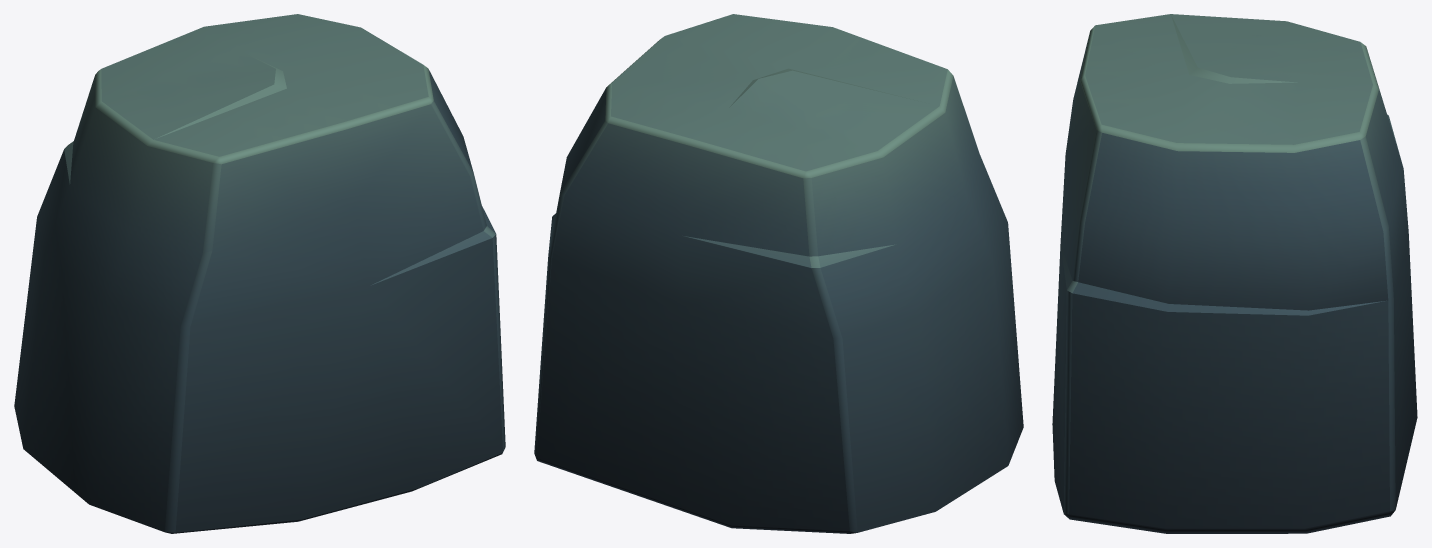
The model's file is rock_large_02.fbx.
3 renders of one model, left to right at view 1: azimuth 30°, elevation 25°; view 2: azimuth 150°, elevation 25°; view 3: azimuth 270°, elevation 25°, orthographic. The views are drawn at different scales.
Visible parts, largest first — view 1: rock_large_02; view 2: rock_large_02; view 3: rock_large_02.
Part boxes in pixels (left/top/right/bottom): rock_large_02: left=14, top=14, right=505, bottom=533; rock_large_02: left=534, top=14, right=1023, bottom=533; rock_large_02: left=1052, top=14, right=1417, bottom=533.
Bounding box in the file's own units: 1827 × 1646 × 1419.
